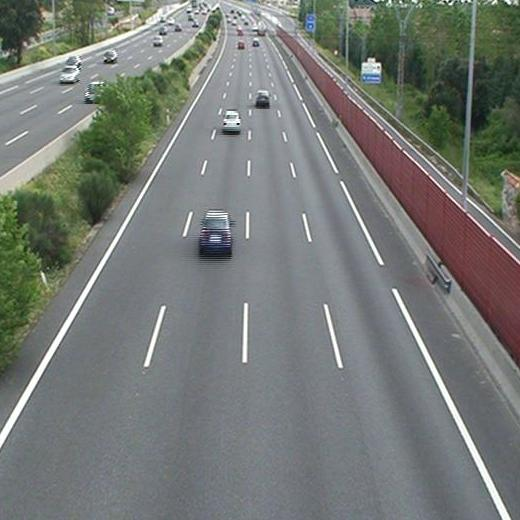car: (200, 211, 231, 249), (222, 111, 240, 131), (255, 90, 269, 104)
